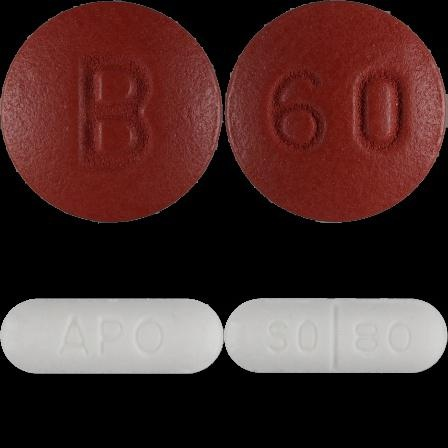53217-010: (0, 0, 224, 224)
